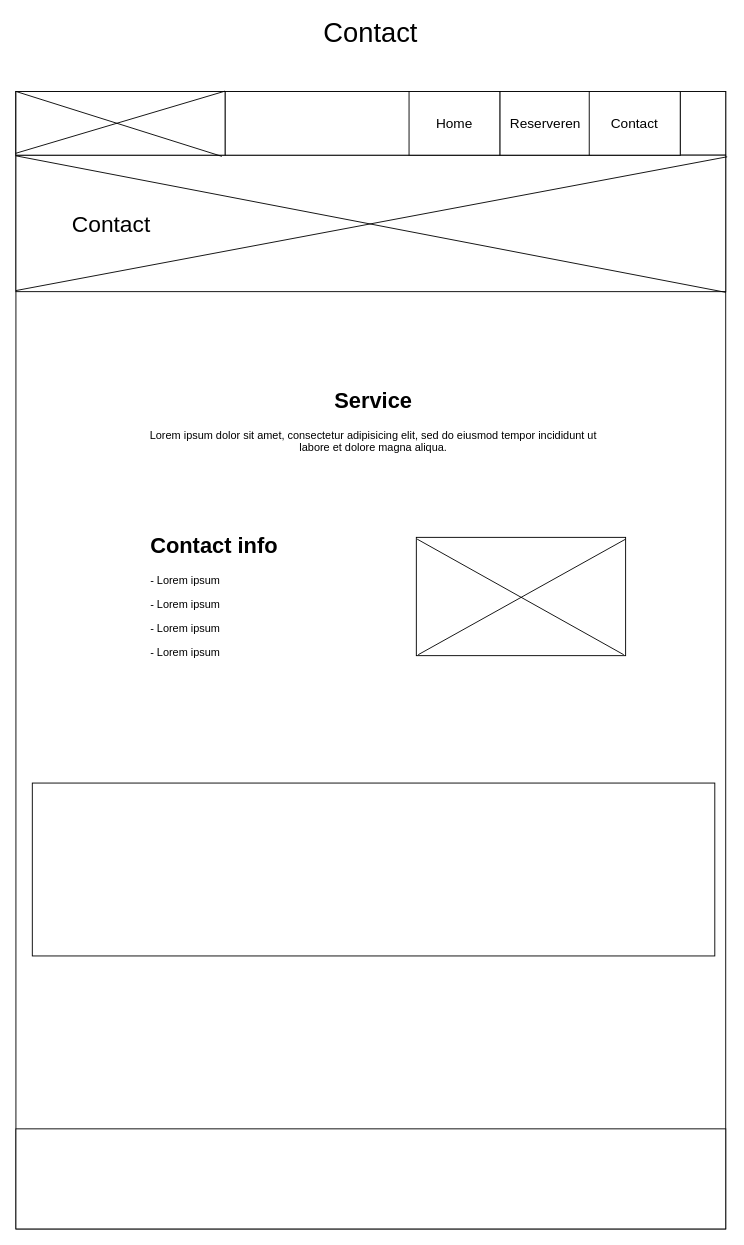
Image size: 744x1245. Some labels were removed from this diagram. Here are the shapes that lost their labels. From the top down, the centre of each, then its label:
point (373, 869): Google maps / Adres
point (370, 1178): Footer
